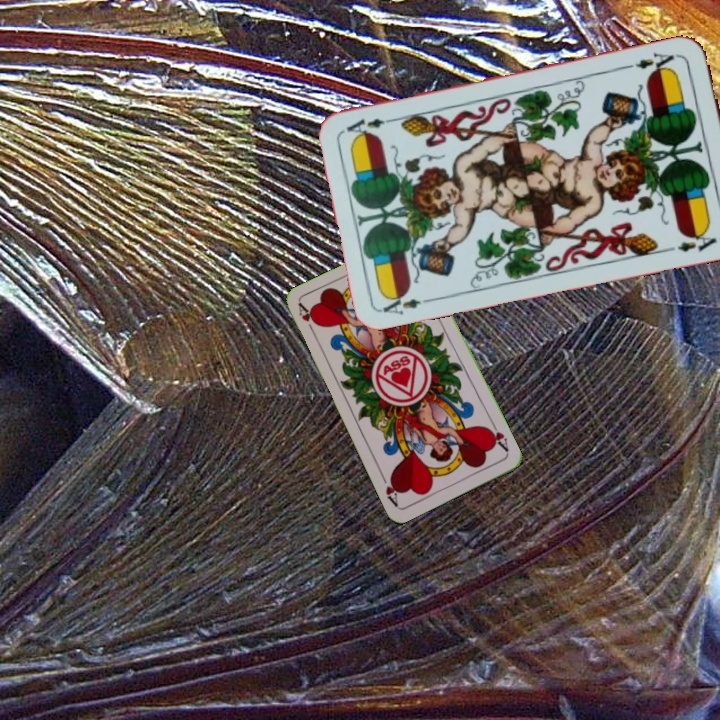EA: (379, 288, 436, 318), (624, 48, 682, 76)
HA: (482, 417, 511, 454), (294, 300, 321, 339)
